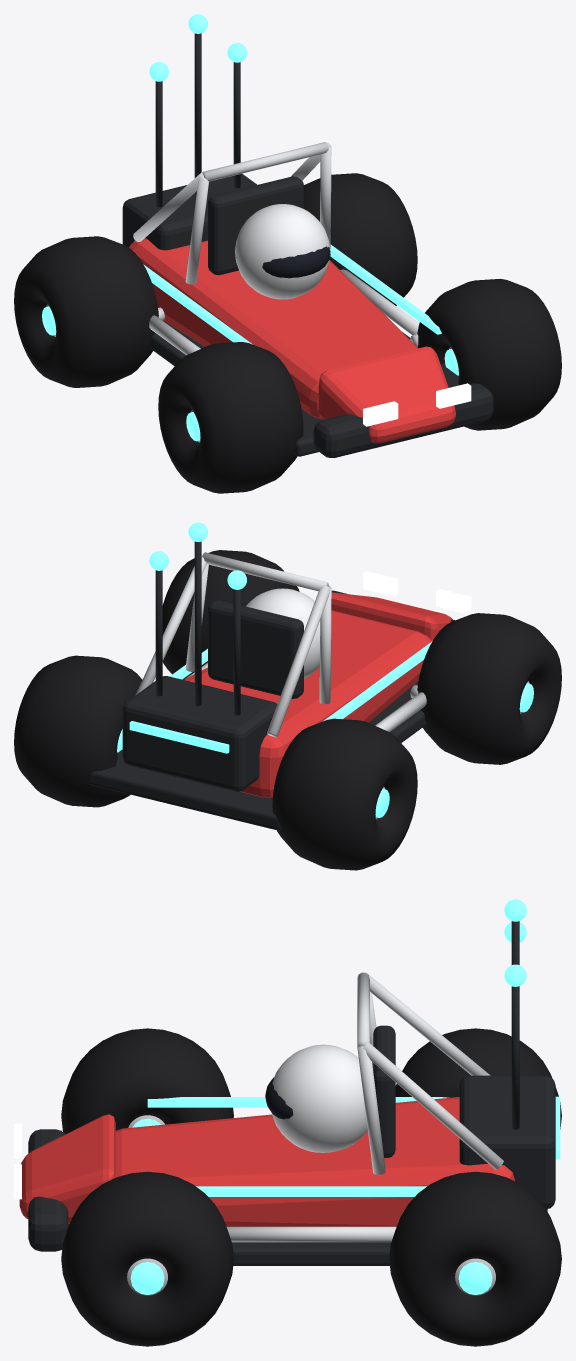
Rendered from kart-5g.glb.
3 renders of one model, top to bottom at view 1: azimuth 30°, elevation 25°; view 2: azimuth 150°, elevation 25°; view 3: azimuth 270°, elevation 25°, orthographic. The views are drawn at different scales.
Visible parts, largest first — view 1: Hull.004, Wheel_FL.001, Wheel_RL.001, Wheel_FR.001, Hull.005, Wheel_RR.001, Helmet.001, Box.017, Box.018, Box.016, Box.015, Rod.010 (+13 smaller); view 2: Wheel_RL.001, Wheel_FL.001, Wheel_RR.001, Box.018, Hull.004, Box.017, Box.015, Wheel_FR.001, Hull.005, Helmet.001, Rod.001, Rod.010 (+11 smaller); view 3: Hull.004, Wheel_FR.001, Wheel_RR.001, Wheel_FL.001, Box.018, Helmet.001, Hull.005, Wheel_RL.001, Box.015, Rod.007, Box.016, Box.022 (+8 smaller).
Boxes of the visible parts, box(x1,y1,x2,y2) form: Hull.004: box(129, 238, 418, 418); Wheel_FL.001: box(158, 342, 303, 493); Wheel_RL.001: box(14, 236, 158, 387); Wheel_FR.001: box(417, 278, 561, 430); Hull.005: box(318, 346, 455, 443); Wheel_RR.001: box(304, 173, 417, 305); Helmet.001: box(235, 204, 330, 299); Box.017: box(208, 176, 303, 275); Box.018: box(122, 173, 257, 250); Box.016: box(313, 383, 493, 457); Box.015: box(150, 320, 458, 456); Rod.010: box(202, 142, 328, 181); Wheel_RL.001: box(272, 718, 417, 870); Wheel_FL.001: box(417, 613, 561, 764); Wheel_RR.001: box(14, 655, 142, 807); Box.018: box(122, 676, 277, 791); Hull.004: box(184, 610, 431, 797); Box.017: box(208, 600, 303, 698); Box.015: box(88, 681, 425, 830); Wheel_FR.001: box(162, 550, 299, 679); Hull.005: box(331, 592, 452, 640); Helmet.001: box(246, 588, 320, 678); Rod.001: box(267, 585, 330, 737); Rod.010: box(202, 552, 328, 591); Hull.004: box(115, 1097, 514, 1226); Wheel_FR.001: box(61, 1171, 233, 1346); Wheel_RR.001: box(389, 1171, 561, 1346); Wheel_FL.001: box(61, 1028, 233, 1134); Box.018: box(459, 1075, 555, 1209); Helmet.001: box(271, 1044, 367, 1152); Hull.005: box(19, 1114, 115, 1224); Wheel_RL.001: box(395, 1028, 561, 1129); Box.015: box(68, 1209, 547, 1265); Rod.007: box(226, 1226, 396, 1242); Box.016: box(28, 1129, 68, 1251); Box.022: box(196, 1186, 426, 1196).
Size of the model in its own units: 2.94 by 2.52 by 3.42.
